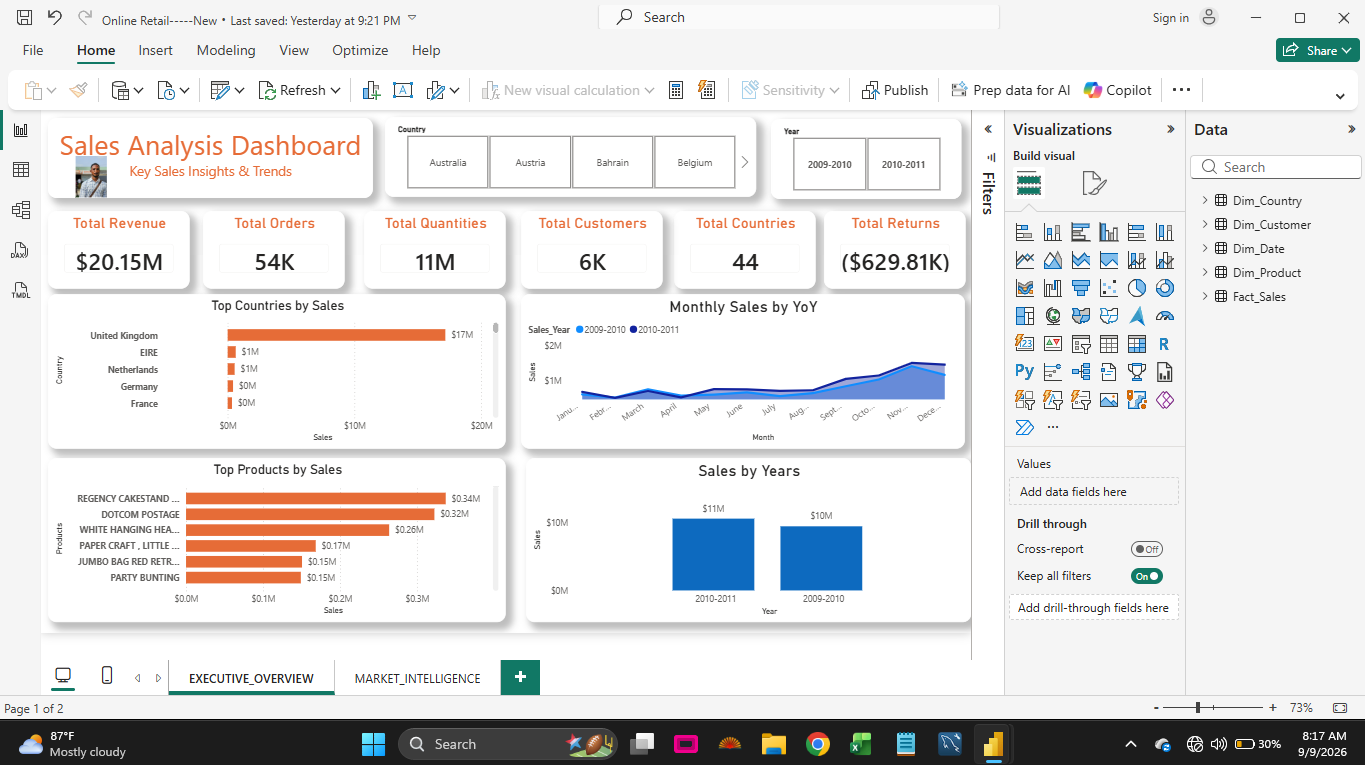

This screenshot's page, from the dashboard's own definition file:
{"tool":"powerbi","page":{"name":"EXECUTIVE_OVERVIEW","canvas":[1280,720],"ordinal":0},"visuals":[{"type":"textbox","box":[9.6,11,447.3,110.1],"z":0},{"type":"slicer","fields":{"Values":["Dim_Country.Country"]},"box":[473.1,10.3,511.3,110.2],"z":1000},{"type":"slicer","fields":{"Values":["Fact_Sales.Sales_Year"]},"box":[1005.1,11.8,261.6,110.2],"z":2000},{"type":"cardVisual","title":"Total Revenue","fields":{"Data":["Fact_Sales.Total Revenue"]},"box":[9.6,139,195.4,107.4],"z":3000},{"type":"cardVisual","title":"Total Orders","fields":{"Data":["Fact_Sales.Total Orders"]},"box":[223,139,195.4,107.4],"z":4000},{"type":"cardVisual","title":"Total Countries","fields":{"Data":["Fact_Sales.Total Countries"]},"box":[871.2,139,195.4,107.4],"z":5000},{"type":"cardVisual","title":"Total Customers","fields":{"Data":["Fact_Sales.Total Customers"]},"box":[660.6,139,195.4,107.4],"z":6000},{"type":"cardVisual","title":"Total Quantities","fields":{"Data":["Fact_Sales.Total Quantity"]},"box":[444.6,139,195.4,107.4],"z":7000},{"type":"cardVisual","title":"Total Returns","fields":{"Data":["Fact_Sales.Total Returns"]},"box":[1077.7,139,195.4,107.4],"z":8000},{"type":"barChart","title":"Top Countries by Sales","fields":{"Category":["Dim_Country.Country"],"Y":["Fact_Sales.Total Revenue"]},"box":[9.6,253.2,630.4,213.3],"z":9000},{"type":"barChart","title":"Top Products by Sales","fields":{"Y":["Fact_Sales.Total Revenue"],"Category":["Fact_Sales.Description"]},"box":[9.6,479,630.4,225.7],"z":10000},{"type":"areaChart","title":"Monthly Sales by YoY","fields":{"Category":["Dim_Date.Month"],"Y":["Fact_Sales.Total Revenue"],"Series":["Fact_Sales.Sales_Year"]},"box":[661.2,252.7,611.3,213.1],"z":11000},{"type":"clusteredColumnChart","title":"Sales by Years","fields":{"Category":["Fact_Sales.Sales_Year"],"Y":["Fact_Sales.Total Revenue"]},"box":[667.1,479,612.7,226.3],"z":12000},{"type":"image","box":[10.3,63.2,119,57.3],"z":13000}]}

Visuals, with their boxes on the page's 1280x720 design canvas (x1, y1, x2, y2). These are canvas units, not pixel positions in the 1365x765 screenshot, which may show the page scaled, cropped or inside an application window:
textbox: bbox=[10, 11, 457, 121]
slicer - Dim_Country.Country: bbox=[473, 10, 984, 120]
slicer - Fact_Sales.Sales_Year: bbox=[1005, 12, 1267, 122]
"Total Revenue" cardVisual: bbox=[10, 139, 205, 246]
"Total Orders" cardVisual: bbox=[223, 139, 418, 246]
"Total Countries" cardVisual: bbox=[871, 139, 1067, 246]
"Total Customers" cardVisual: bbox=[661, 139, 856, 246]
"Total Quantities" cardVisual: bbox=[445, 139, 640, 246]
"Total Returns" cardVisual: bbox=[1078, 139, 1273, 246]
"Top Countries by Sales" barChart: bbox=[10, 253, 640, 466]
"Top Products by Sales" barChart: bbox=[10, 479, 640, 705]
"Monthly Sales by YoY" areaChart: bbox=[661, 253, 1272, 466]
"Sales by Years" clusteredColumnChart: bbox=[667, 479, 1280, 705]
image: bbox=[10, 63, 129, 120]
